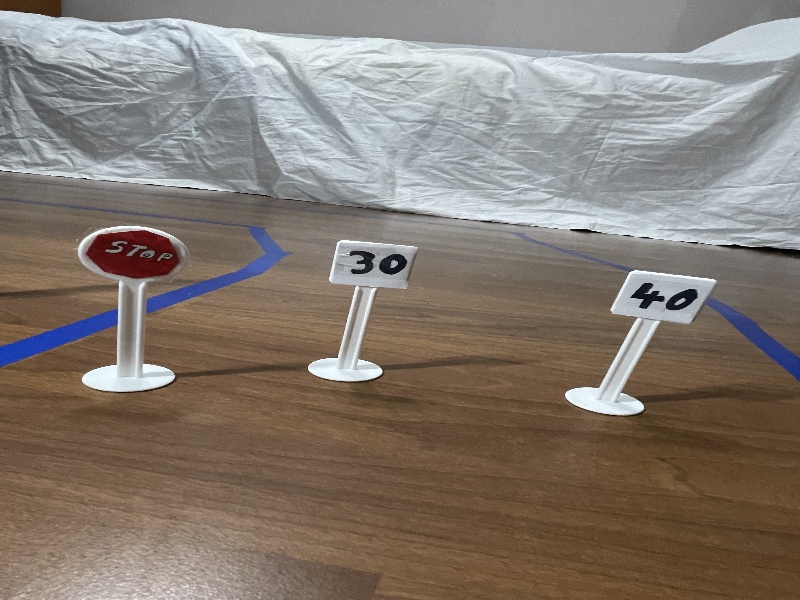stop: (74, 210, 194, 294)
viteza_limita_30: (321, 221, 434, 306)
viteza_limita_40: (616, 257, 719, 334)
